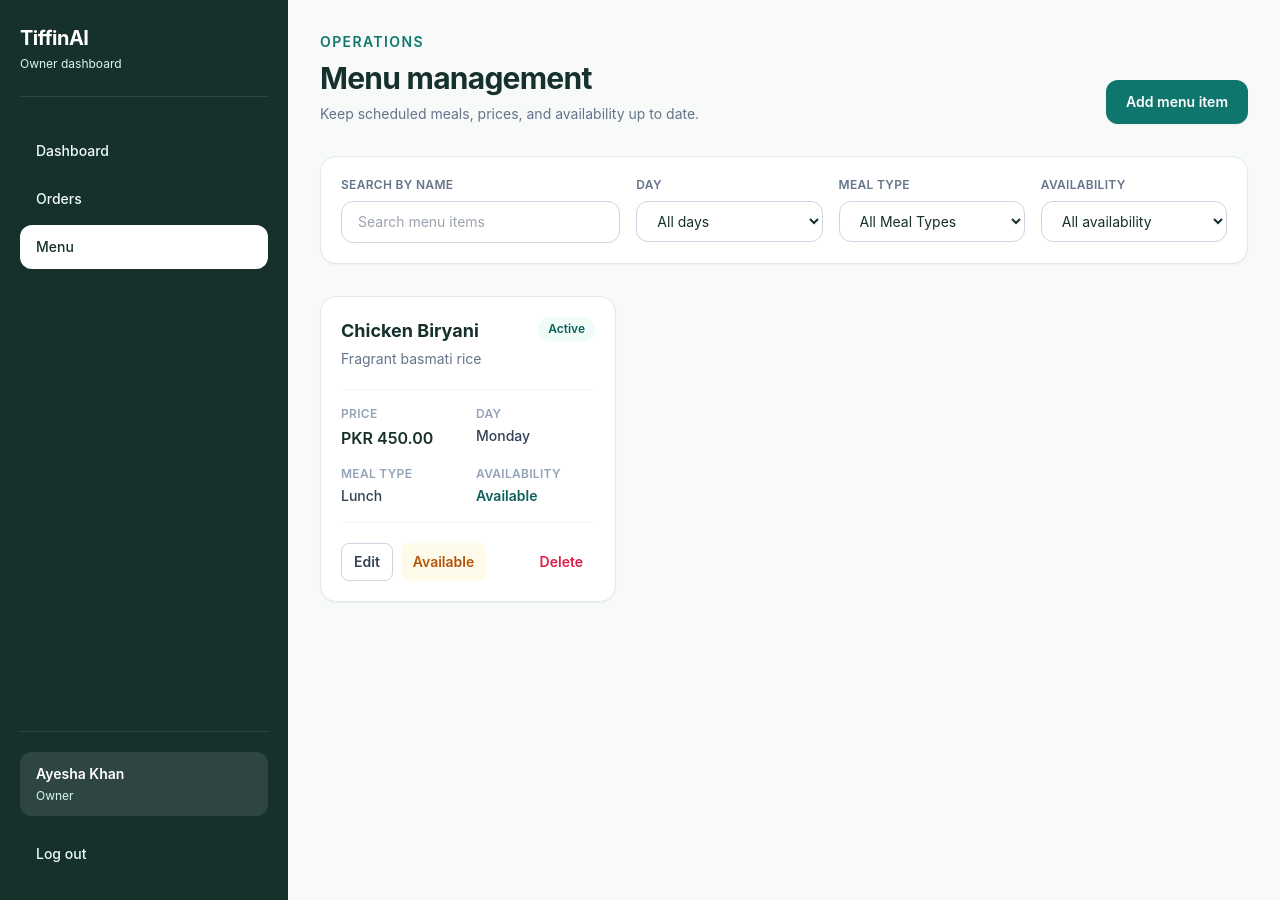
Scenario: Menu management › confirms a soft delete and removes the item from the list
Click the button with aria-label "Delete Chicken Biryani" at (561, 562), box [528,543,595,581]
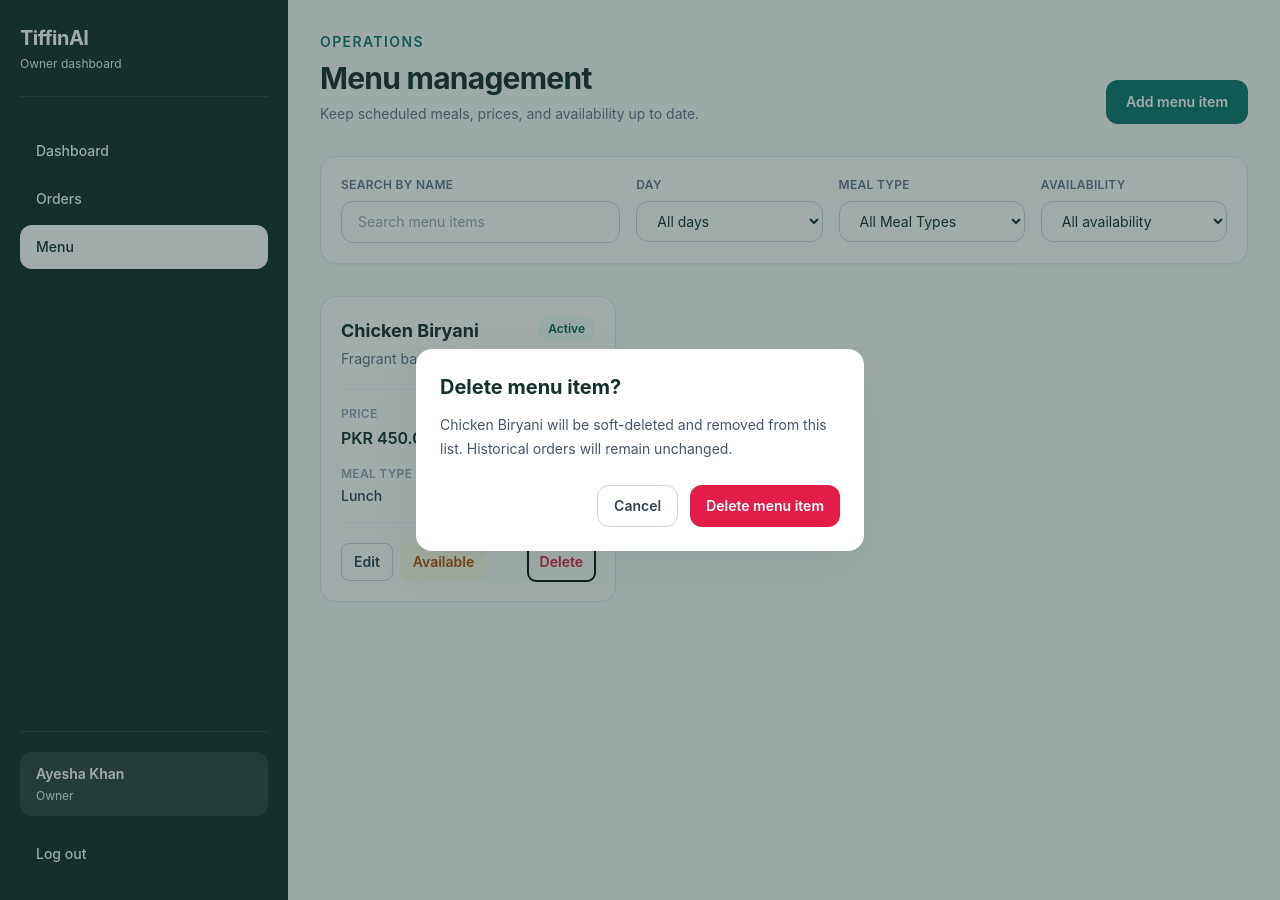
Now the text "historical orders will remain unchanged" is shown, box [440,416,827,457]
Click the button "Delete menu item" at (765, 506), box [690,485,840,527]
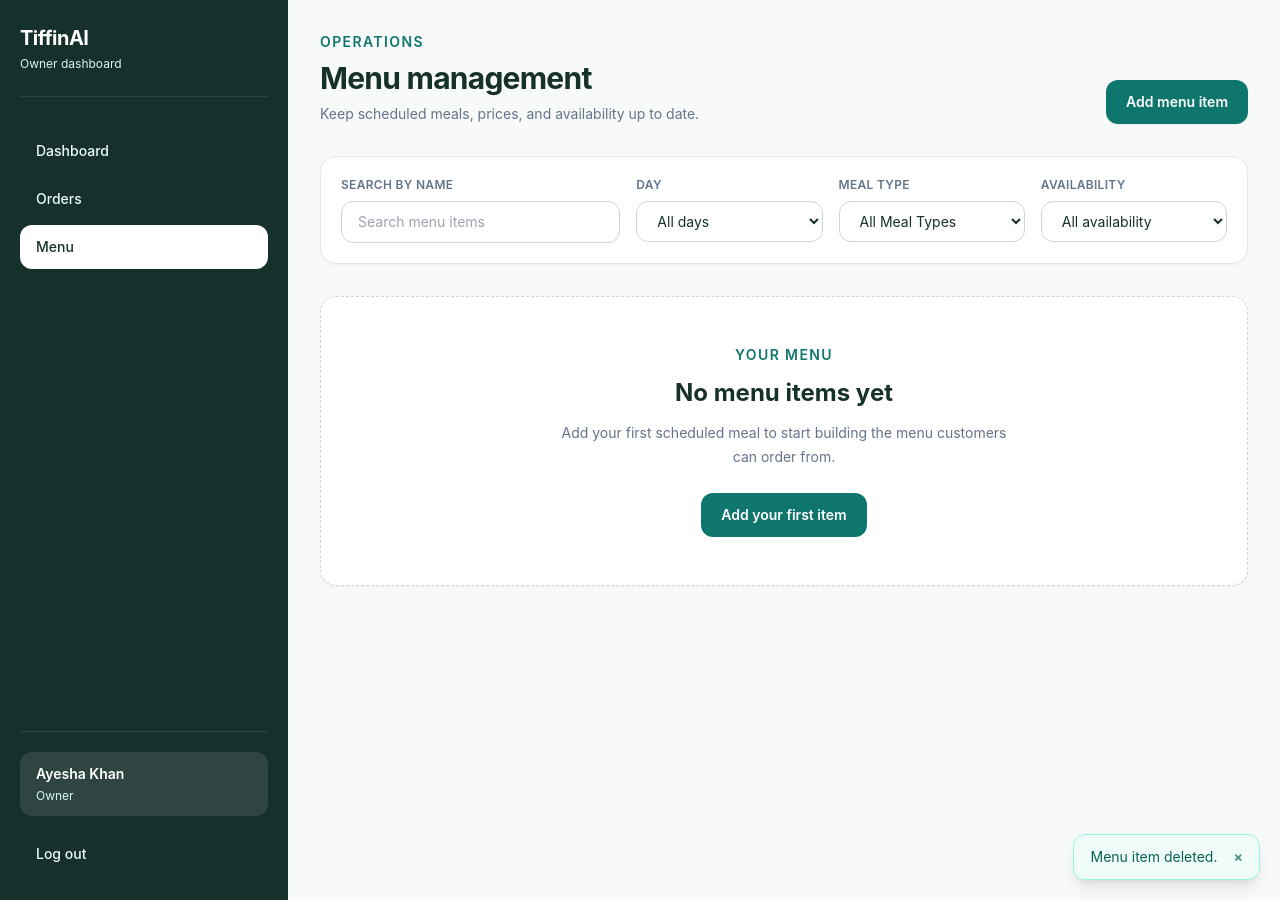
Now the message shows "Menu item deleted", box [1090,848,1218,865]
Now the heading "Chicken Biryani" is gone
